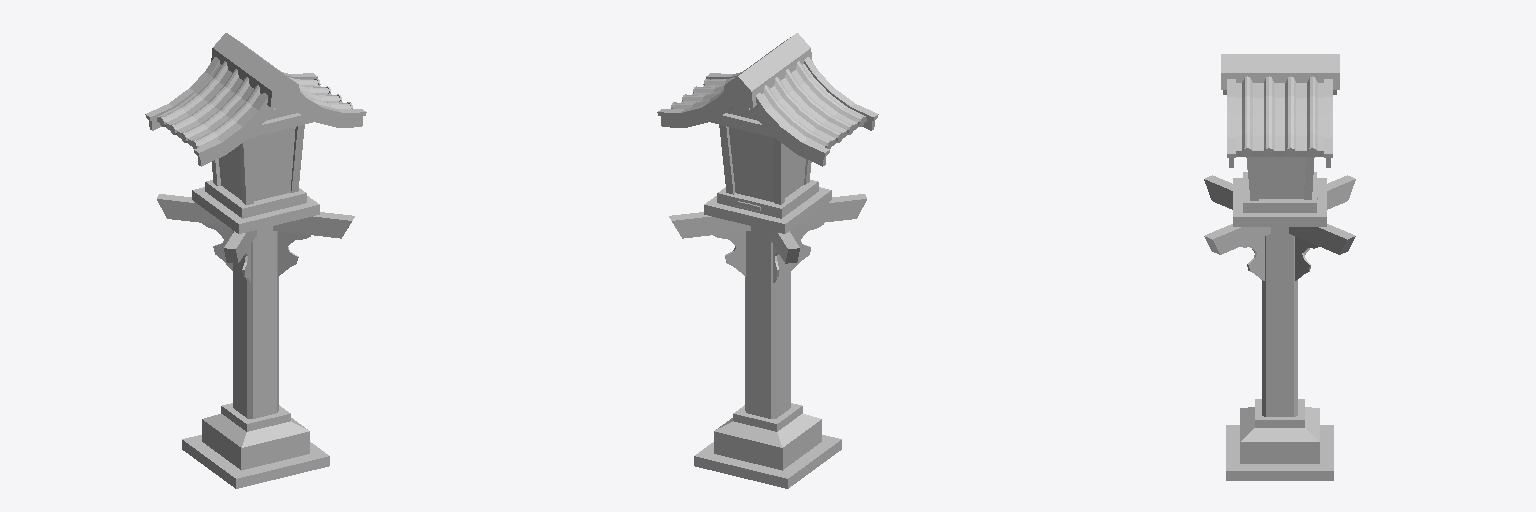
The model's file is lantern.obj.
3 views of the same model, side by side, from view 1: azimuth 30°, elevation 25°; view 2: azimuth 150°, elevation 25°; view 3: azimuth 270°, elevation 25° (orthographic).
Visible parts, largest first — view 1: SM_Lantern; view 2: SM_Lantern; view 3: SM_Lantern.
Part boxes in pixels (x1,y1,x2,y2): SM_Lantern: (145,33,366,488); SM_Lantern: (657,33,878,488); SM_Lantern: (1204,54,1355,480).
Size of the model in its own units: 0.049 by 0.1128 by 0.0386.